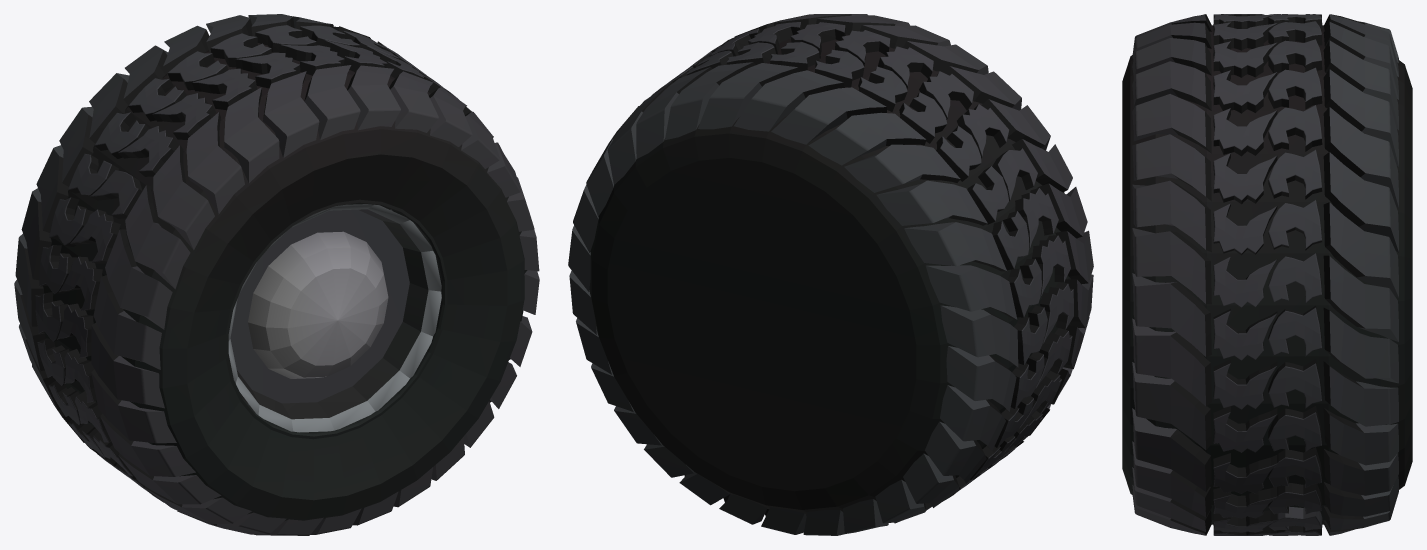
Rendered from wheel_07.fbx.
3 renders of one model, left to right at view 1: azimuth 30°, elevation 25°; view 2: azimuth 150°, elevation 25°; view 3: azimuth 270°, elevation 25°, orthographic. The views are drawn at different scales.
Visible parts, largest first — view 1: wheel_07; view 2: wheel_07; view 3: wheel_07.
Boxes of the visible parts, x1,y1,x2,y2 form: wheel_07: [14, 14, 539, 535]; wheel_07: [568, 14, 1093, 535]; wheel_07: [1122, 14, 1412, 535].
Bounding box in the file's own units: 124 × 124 × 69.05.
